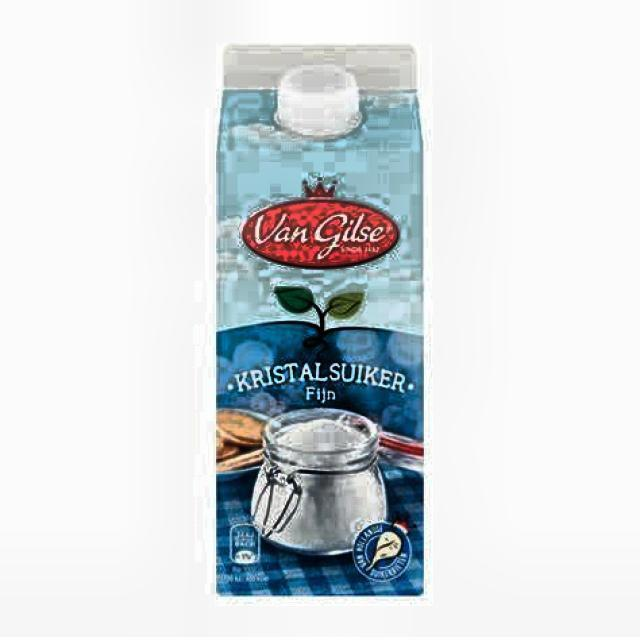cardboard: (214, 43, 424, 596)
